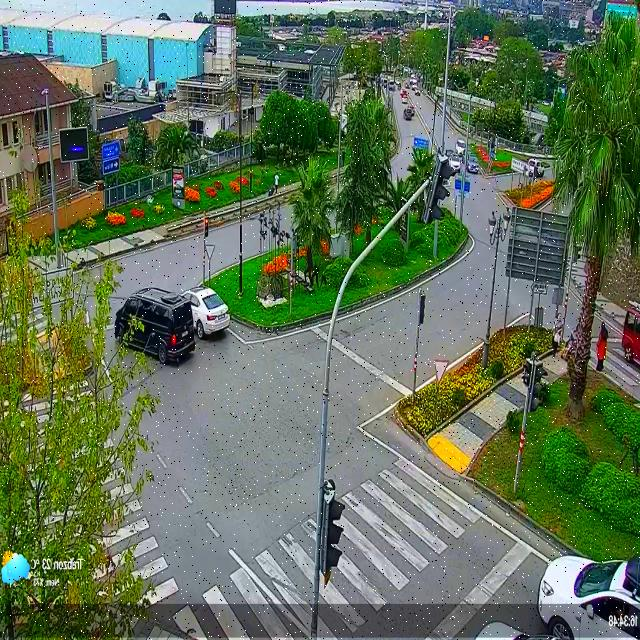car: (536, 548, 640, 637), (114, 287, 192, 361), (180, 287, 230, 338)
